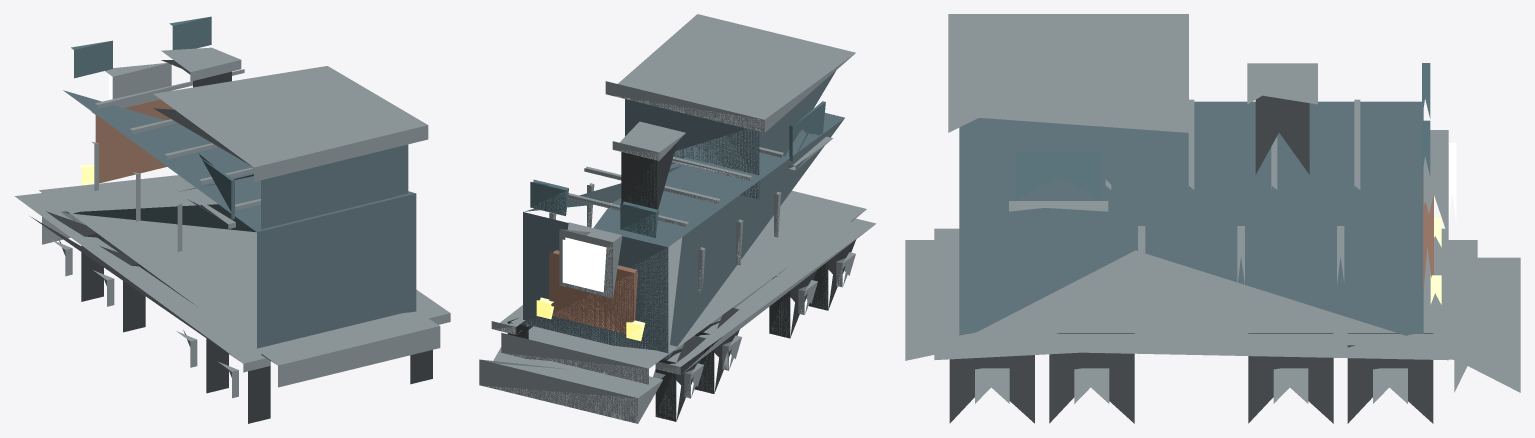
Rendered from locomotive.gltf.
3 renders of one model, left to right at view 1: azimuth 30°, elevation 25°; view 2: azimuth 150°, elevation 25°; view 3: azimuth 270°, elevation 25°, orthographic. The views are drawn at different scales.
Parts seen in each view (by area): view 1: deep blue locomotive body, cast chassis, cabin roof, raised cabin, running board (×2), wheel (×5), front grille, windshield (×2), headlamp enclosure, stack cap, front cowcatcher, side window (+1 smaller); view 2: deep blue locomotive body, cabin roof, cast chassis, front cowcatcher, raised cabin, wheel (×4), running board (×2), front grille, smokestack, windshield (×2), headlamp lens, headlamp enclosure (+4 smaller); view 3: deep blue locomotive body, cast chassis, cabin roof, wheel (×4), running board, raised cabin, front cowcatcher, wheel hub (×4), side window, smokestack, stack cap, headlamp enclosure (+3 smaller).
Part boxes in pixels (x1,y1,x2,y2): deep blue locomotive body: (63, 90, 416, 348); cast chassis: (39, 175, 440, 387); cabin roof: (153, 66, 428, 181); raised cabin: (178, 144, 408, 229); running board (×2): (28, 206, 450, 372); wheel (×5): (46, 211, 432, 423); front grille: (91, 99, 179, 183); windshield (×2): (71, 16, 211, 78); headlamp enclosure: (105, 63, 171, 107); stack cap: (161, 47, 241, 81); front cowcatcher: (14, 177, 186, 244); side window: (196, 154, 234, 219); deep blue locomotive body: (523, 113, 844, 358); cabin roof: (605, 14, 855, 132); cast chassis: (501, 190, 866, 384); front cowcatcher: (479, 347, 662, 423); raised cabin: (625, 70, 836, 199); wheel (×4): (655, 240, 855, 421); running board (×2): (491, 218, 876, 374); front grille: (549, 250, 637, 333); smokestack: (621, 143, 676, 209); windshield (×2): (530, 179, 658, 237); headlamp lens: (562, 237, 606, 292); headlamp enclosure: (559, 222, 622, 298); deep blue locomotive body: (959, 101, 1423, 335); cast chassis: (905, 240, 1477, 360); cabin roof: (948, 14, 1188, 132); wheel (×4): (949, 333, 1433, 423); running board: (934, 334, 1448, 360); raised cabin: (963, 118, 1170, 222); front cowcatcher: (1454, 257, 1520, 392); wheel hub (×4): (975, 368, 1407, 403); side window: (1015, 152, 1102, 200); smokestack: (1255, 95, 1309, 174); stack cap: (1247, 63, 1317, 104); headlamp enclosure: (1423, 130, 1448, 237).
Bounding box in the file's own units: 3.45 × 4.06 × 7.42.
